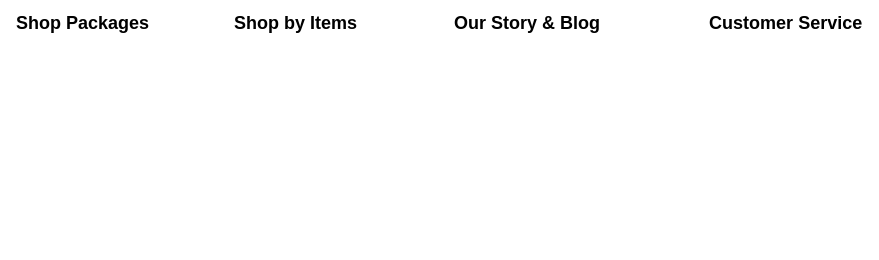
it: NavBar › hovering Our Story shows dropdown links
Hover over the link "Our Story & Blog": (527, 23) [454,13,600,33]
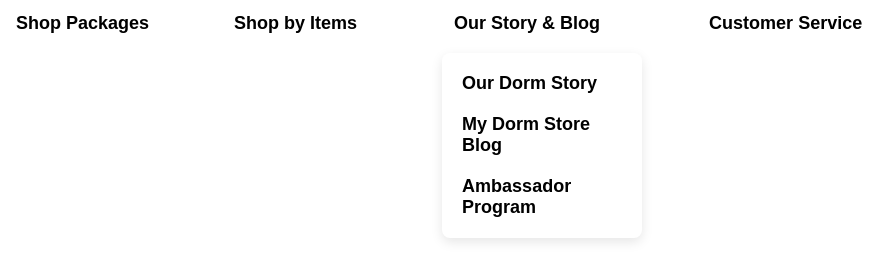
Expected: the link "Our Dorm Story" is shown, [462,73,597,93]
Expected: the link "My Dorm Store Blog" is shown, [462,114,590,155]
Expected: the link "Ambassador Program" is shown, [462,176,571,217]
